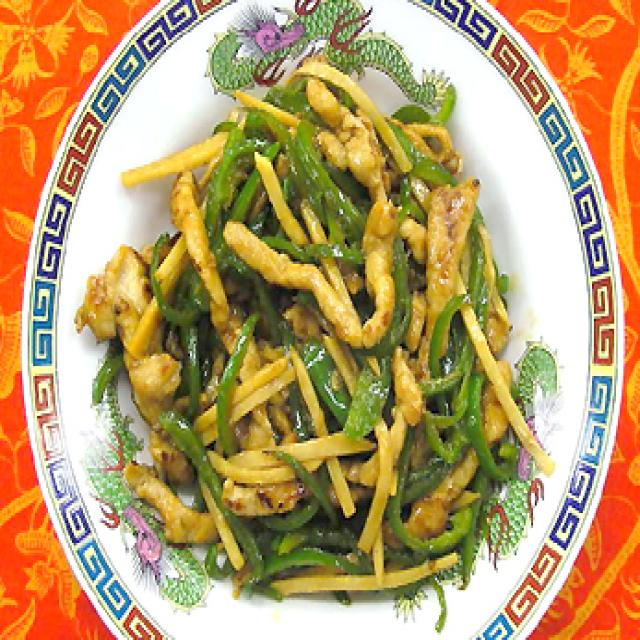牛肉菜式: (18, 0, 629, 640)
